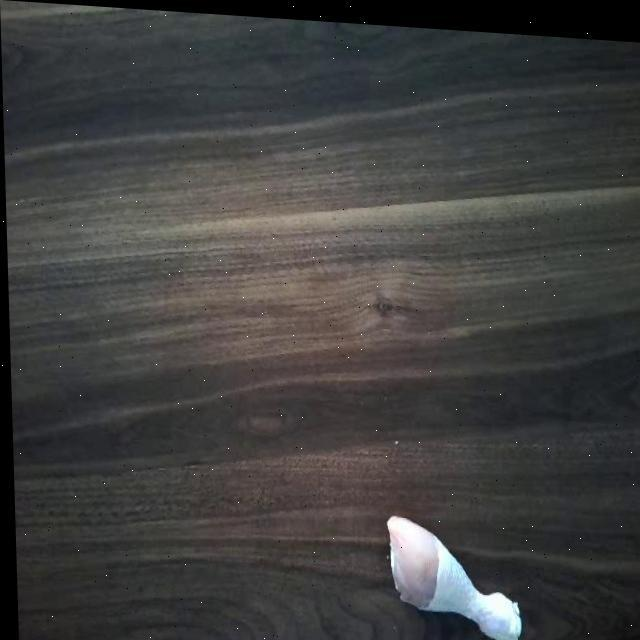leg: (380, 508, 522, 638)
